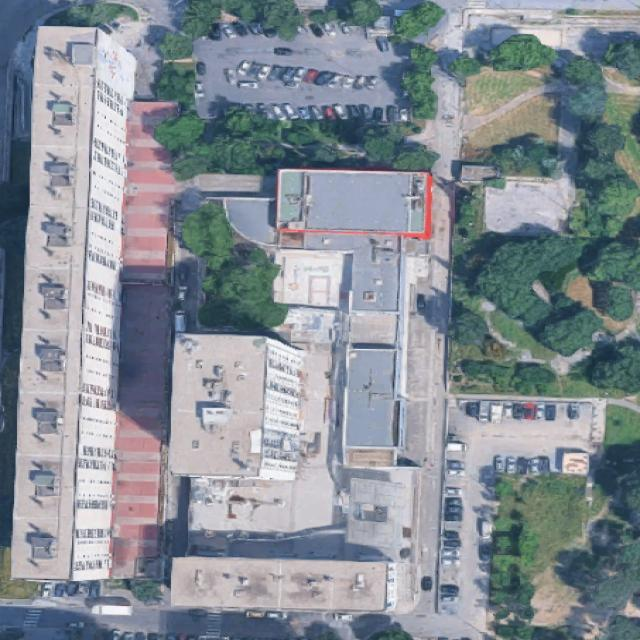immeuble: (9, 25, 136, 582), (220, 167, 433, 315), (169, 334, 303, 478), (172, 560, 396, 613), (346, 310, 405, 449)
